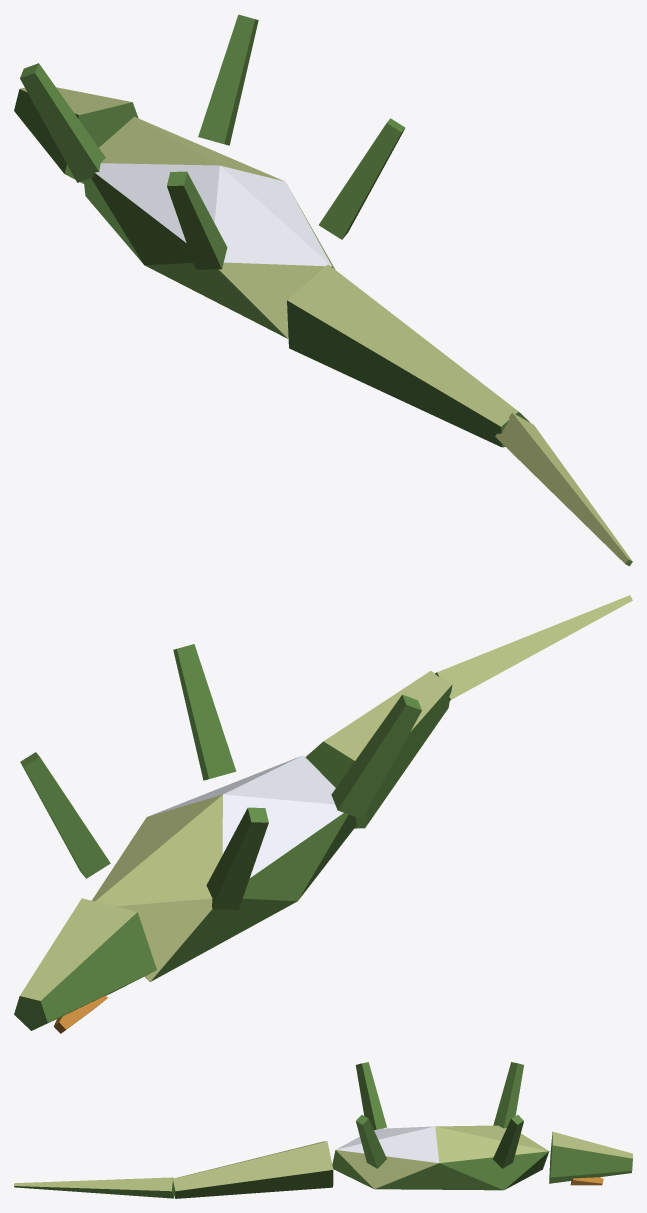
The model's file is iguana.glb.
3 renders of one model, top to bottom at view 1: azimuth 30°, elevation 25°; view 2: azimuth 150°, elevation 25°; view 3: azimuth 270°, elevation 25°, orthographic. The views are drawn at different scales.
Visible parts, largest first — view 1: iguana; view 2: iguana; view 3: iguana.
Boxes of the visible parts, x1,y1,x2,y2 form: iguana: (14, 14, 632, 566); iguana: (14, 595, 632, 1033); iguana: (14, 1062, 632, 1198).
Bounding box in the file's own units: 0.3924 × 0.2952 × 1.67.
